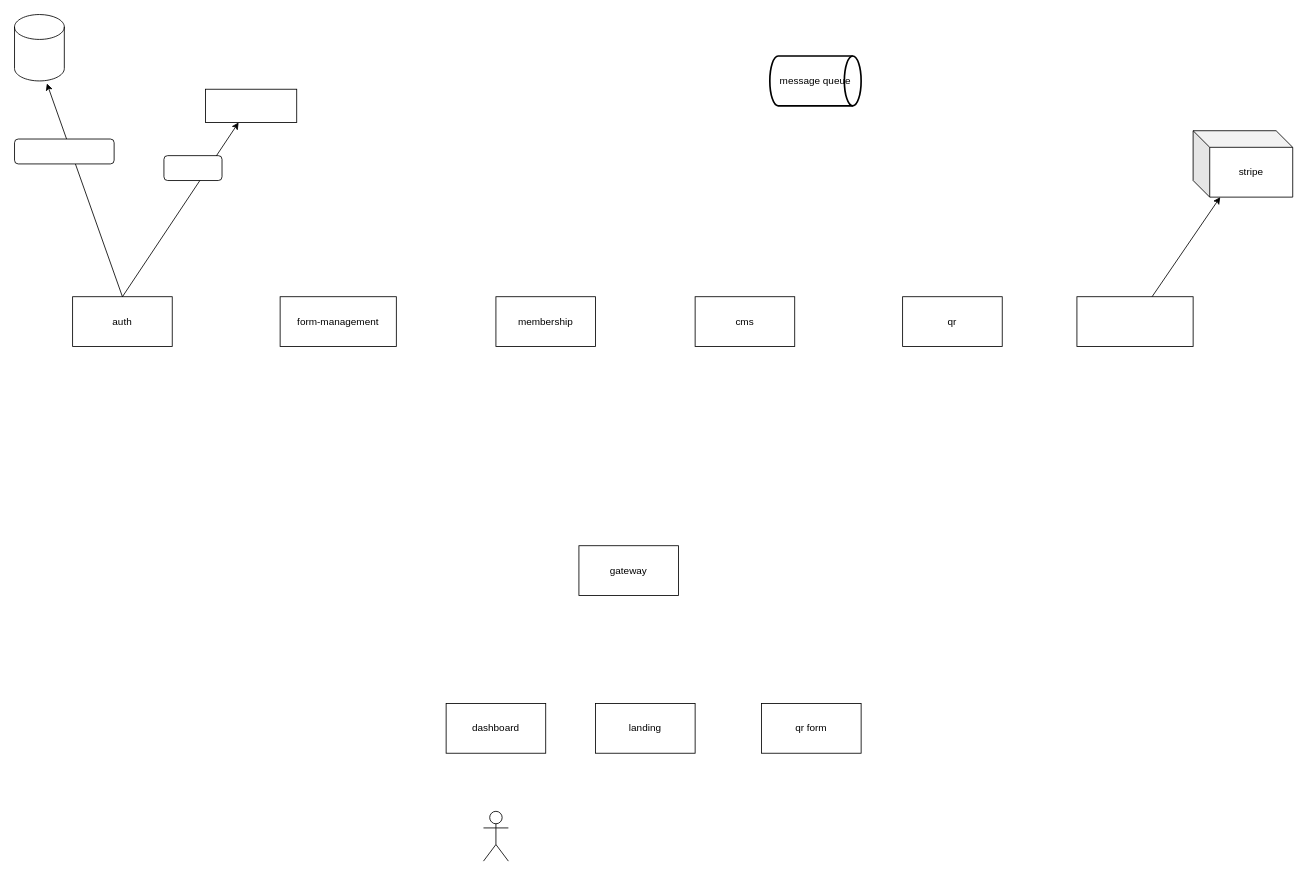
The diagram is 1307 pixels wide and 893 high, and some of its shapes have lost their labels. The box of each missing label's shape, as (x1, y1, x2, y2) in pixels:
client: (483, 810, 508, 861)
payment: (1076, 296, 1193, 347)
postgres: (14, 14, 64, 81)
redis: (205, 88, 297, 122)
session: (163, 155, 222, 181)
user authentication: (14, 138, 114, 164)
